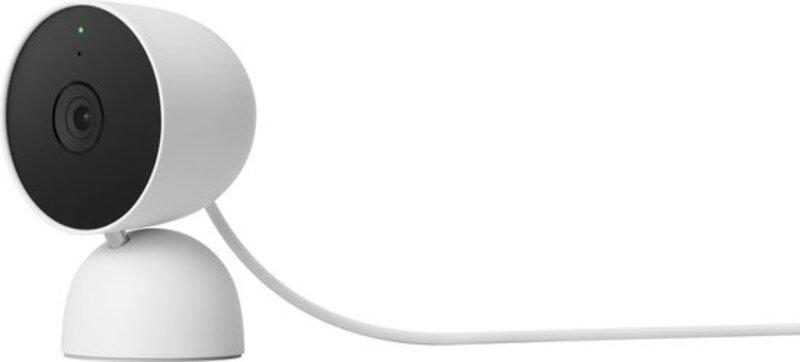nest: (4, 4, 261, 360)
